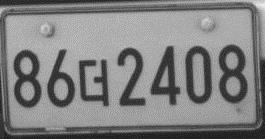0: (182, 45, 213, 105)
2: (115, 46, 147, 107)
4: (148, 44, 182, 106)
6: (45, 47, 77, 108)
8: (216, 43, 249, 104), (10, 47, 42, 109)
더: (77, 56, 111, 108)
